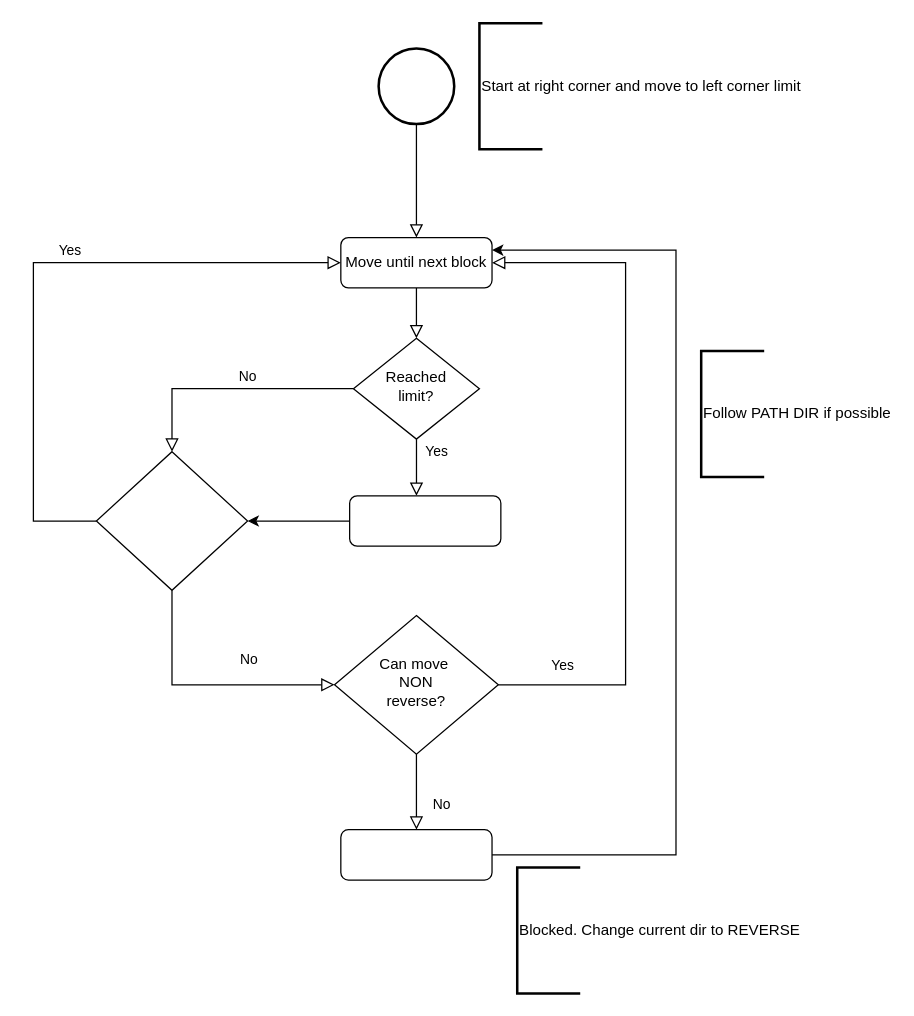
Image size: 914x1016. Some labels were removed from this diagram. The centre of each missing label's shape, as x and y in pixels:
"Can continue in path direction?" belongs at (171,520).
"Change path direction" belongs at (424,520).
"Reverse" belongs at (416,854).
